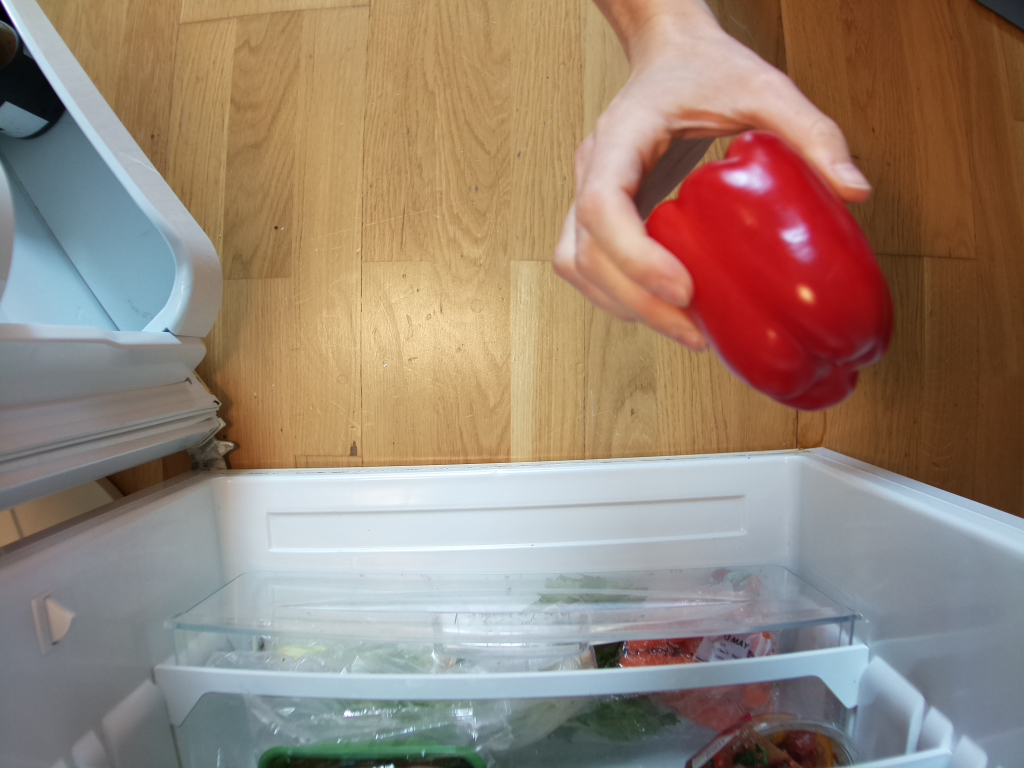pepper: (643, 127, 902, 414)
